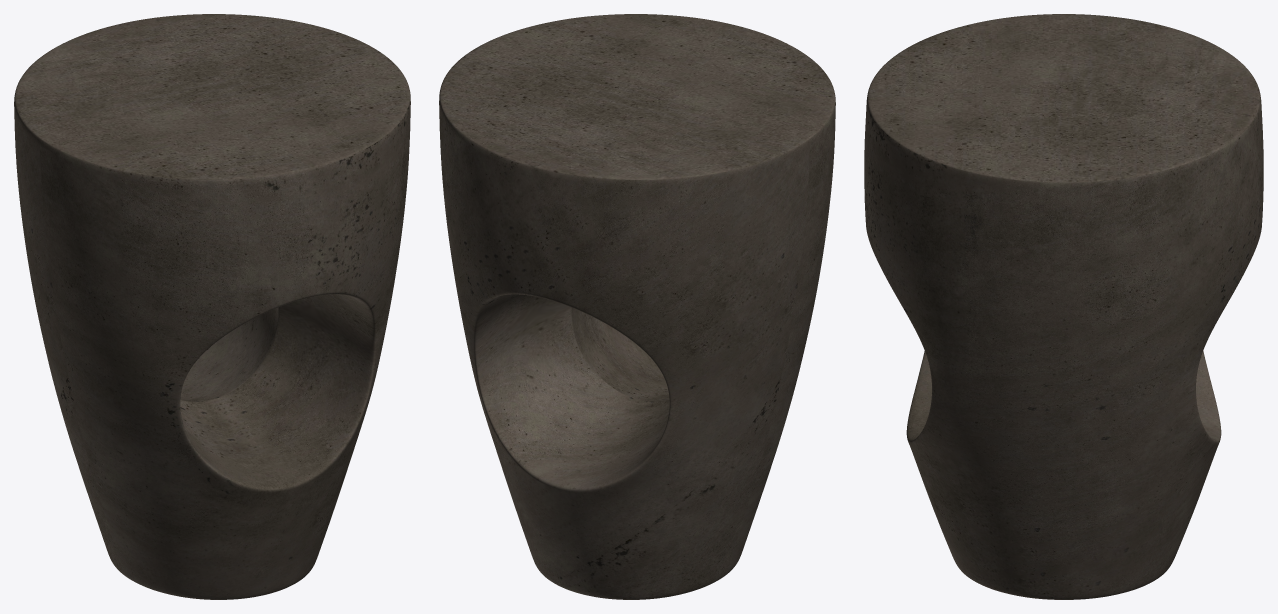
File: TADN3619_v6_LOD2.obj
3 views of the same model, side by side, from view 1: azimuth 30°, elevation 25°; view 2: azimuth 150°, elevation 25°; view 3: azimuth 270°, elevation 25° (orthographic).
Parts seen in each view (by area): view 1: not_clear_obj_0_v6; view 2: not_clear_obj_0_v6; view 3: not_clear_obj_0_v6.
Boxes of the visible parts, bbox=[...] form: not_clear_obj_0_v6: bbox=[14, 14, 410, 599]; not_clear_obj_0_v6: bbox=[439, 14, 835, 599]; not_clear_obj_0_v6: bbox=[864, 14, 1263, 599].
Size of what is drawn, in the model's own units: 35.27 by 44.96 by 35.27.
1 material, 1 textured.
